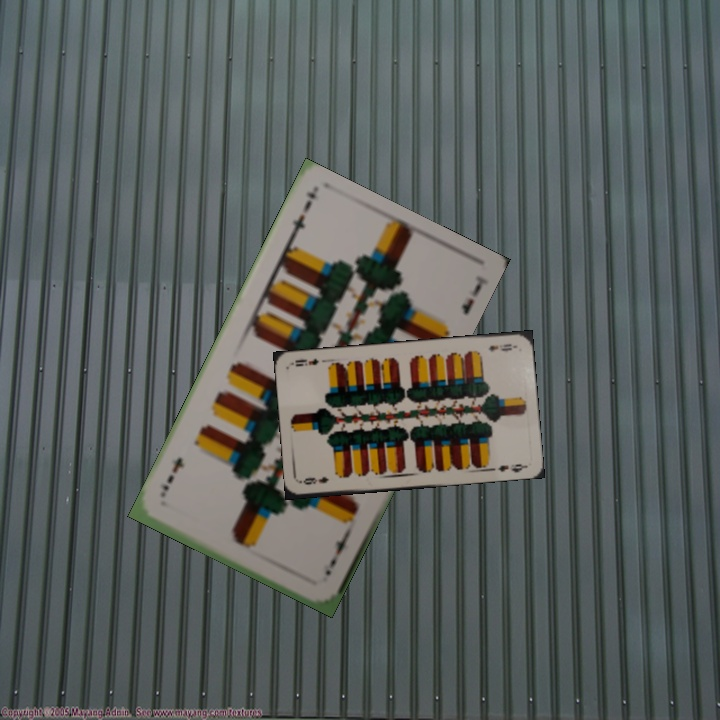E7: (284, 196, 315, 245), (321, 530, 352, 578)
E9: (484, 340, 517, 354), (299, 473, 331, 487)
